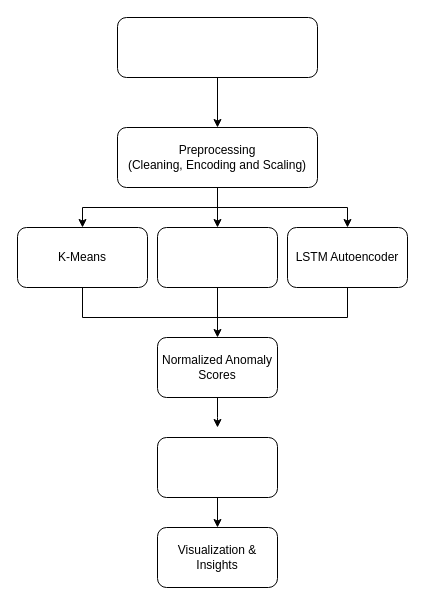
The diagram is 425 pixels wide and 605 high, and some of its shapes have lost their labels. The box of each missing label's shape, as (x1, y1, x2, y2) in pixels:
Anomaly Classification: (156, 436, 278, 498)
Isolation Forest: (156, 226, 278, 288)
Raw Transaction Data: (116, 16, 318, 78)
